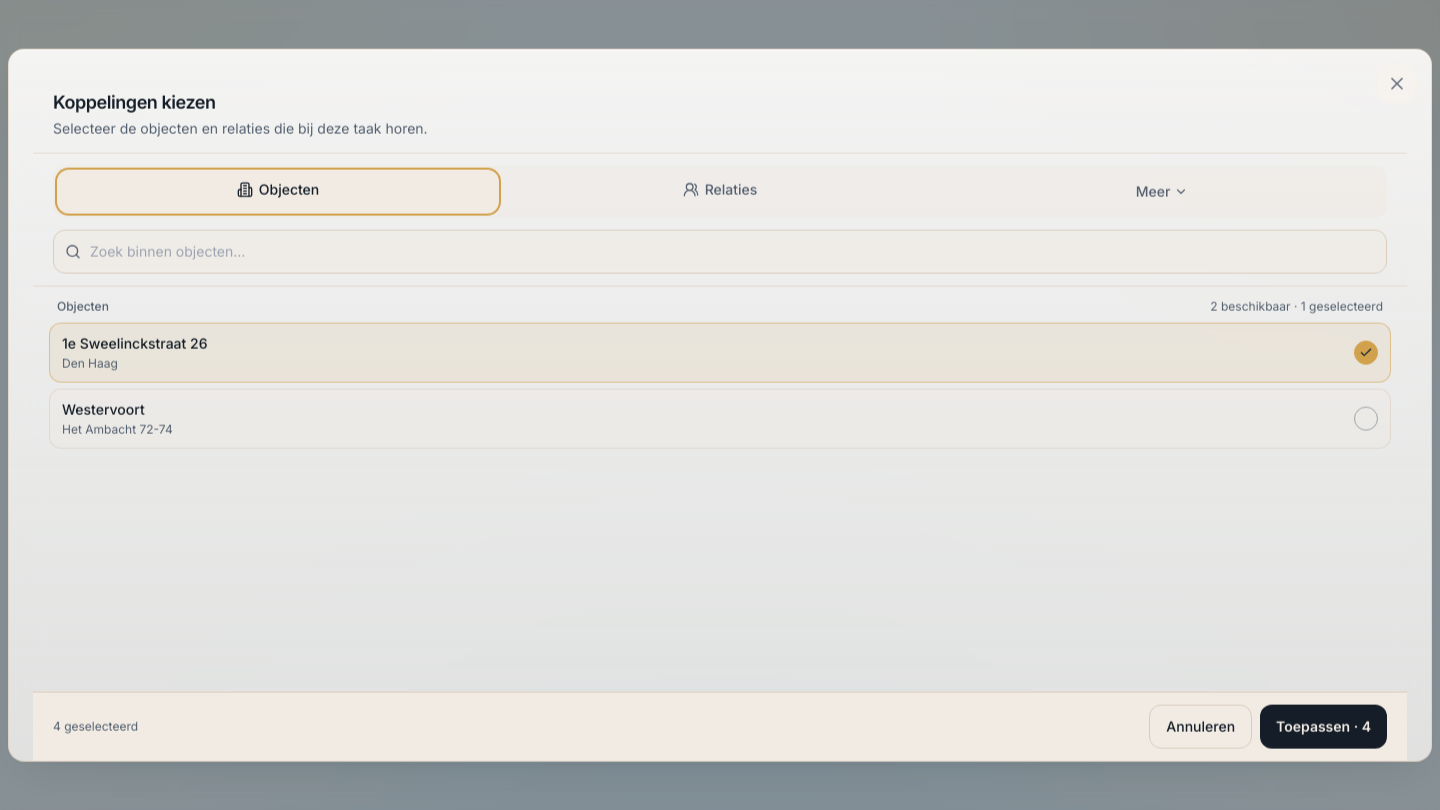
Test: Koppelingen: app-achtige picker met vaste acties › toont Objecten en Relaties als hoofdkeuze, Deals en Radar onder Meer
Expected: the tab "Objecten" is shown, [57, 169, 499, 213]
Expected: the tab "Relaties" is shown, [499, 169, 941, 213]
Click the tab "Meer".
click(1162, 191)  # box [941, 169, 1383, 213]
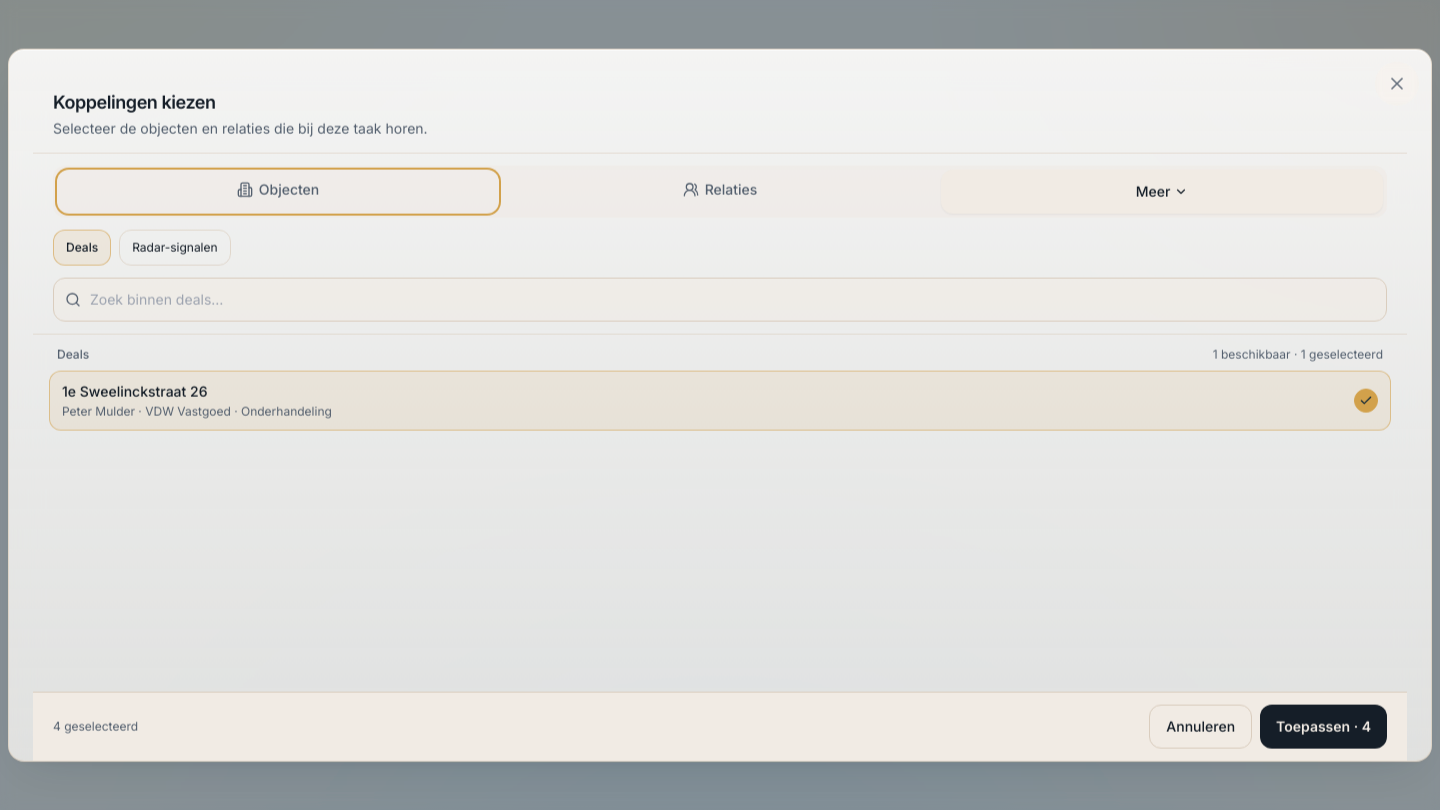
Now the button "Radar-signalen" is shown, box [119, 229, 231, 265]
Now the button "Deals" is shown, box [53, 229, 111, 265]
